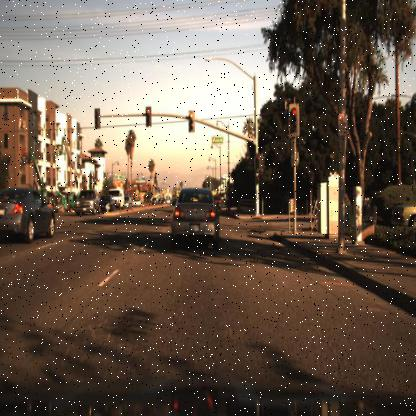car: (0, 178, 57, 244), (167, 186, 221, 250), (73, 189, 98, 220), (112, 184, 124, 208), (98, 194, 115, 210)
trafficLight: (185, 108, 195, 136)
trafficLight-Red: (290, 106, 298, 134), (144, 105, 152, 128), (254, 154, 262, 172), (257, 154, 262, 170)
